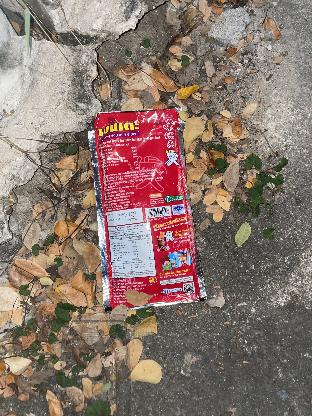Plastic Packaging: (70, 112, 220, 316)
